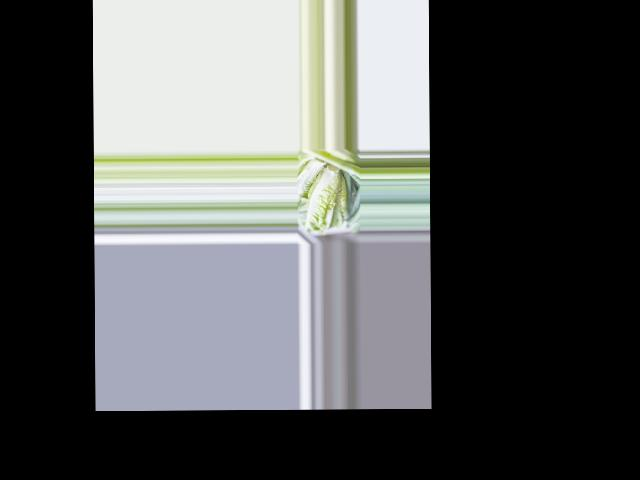lettuce: (303, 164, 347, 233)
